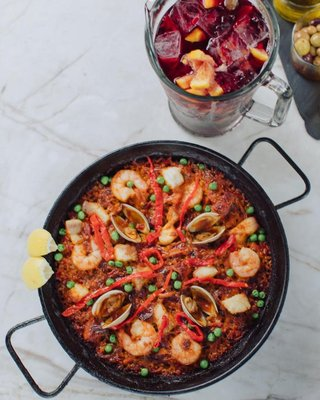sushi: (144, 0, 282, 138), (290, 11, 320, 82)
